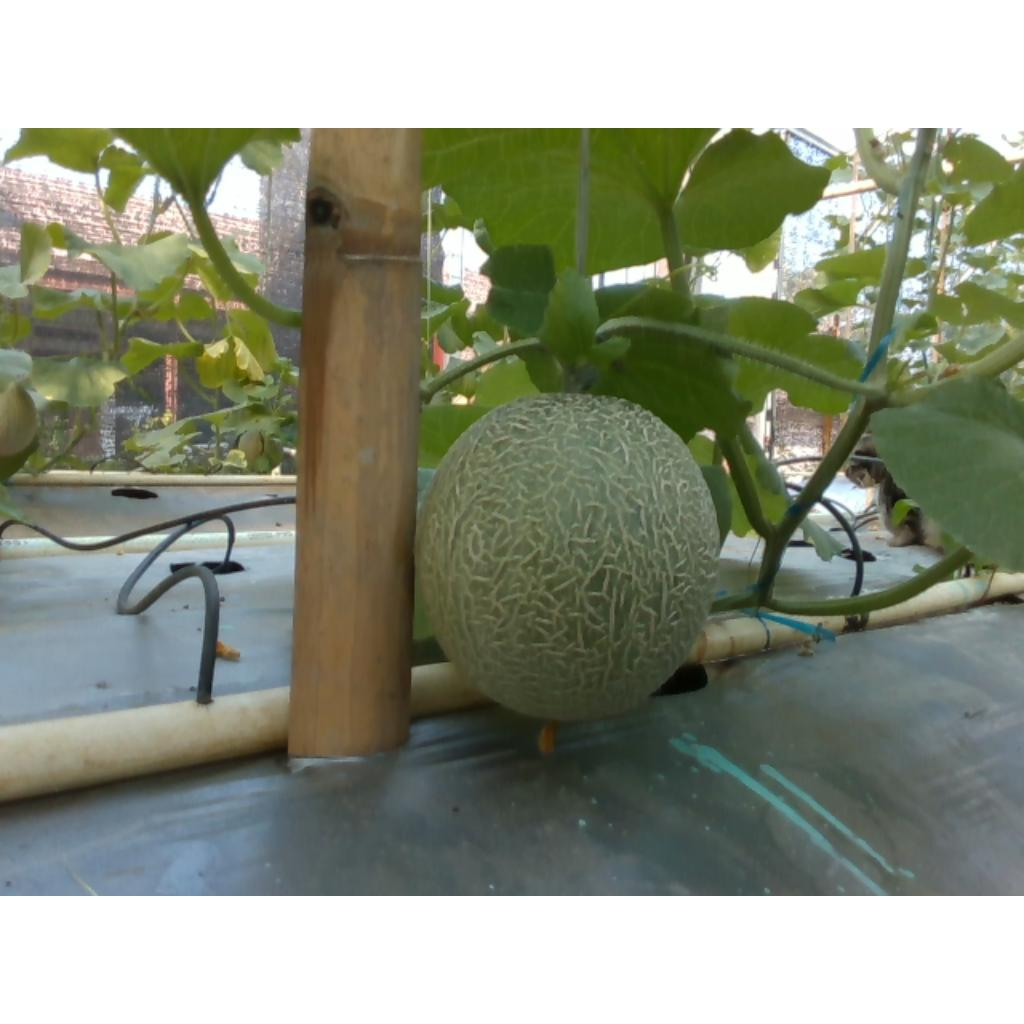melon: (416, 394, 720, 721)
